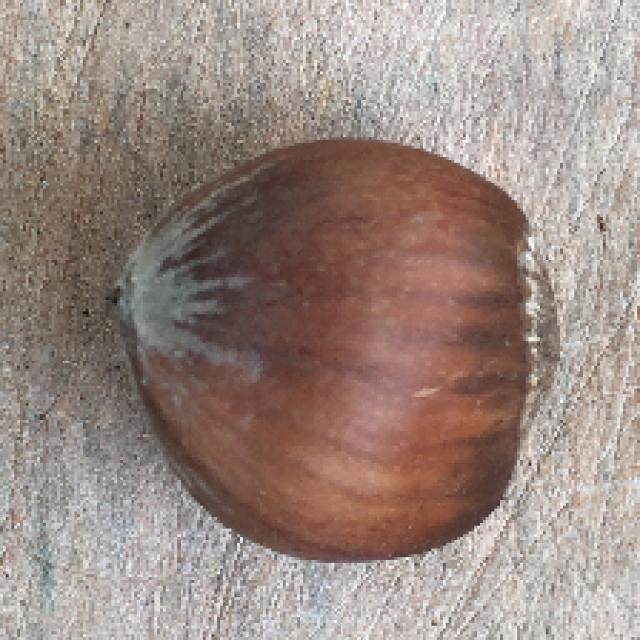damagedHazelnut: (107, 127, 561, 569)
